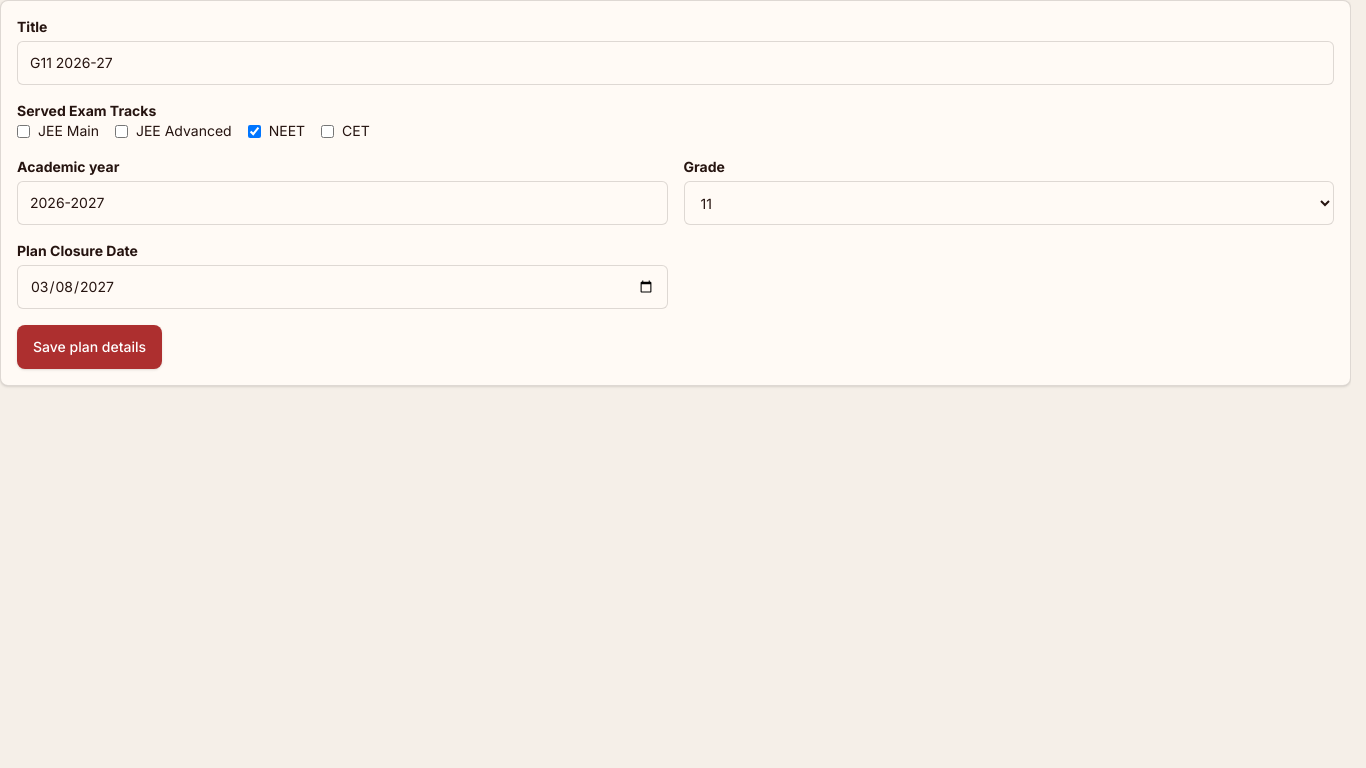
it: CurriculumPlanMetadataForm › offers to clear the clashing Chapters' dates, then resubmits what the Admin saw with that consent
In the date field labelled "Plan Closure Date": (342,287) [17,265,668,309], type "2027-02-28"
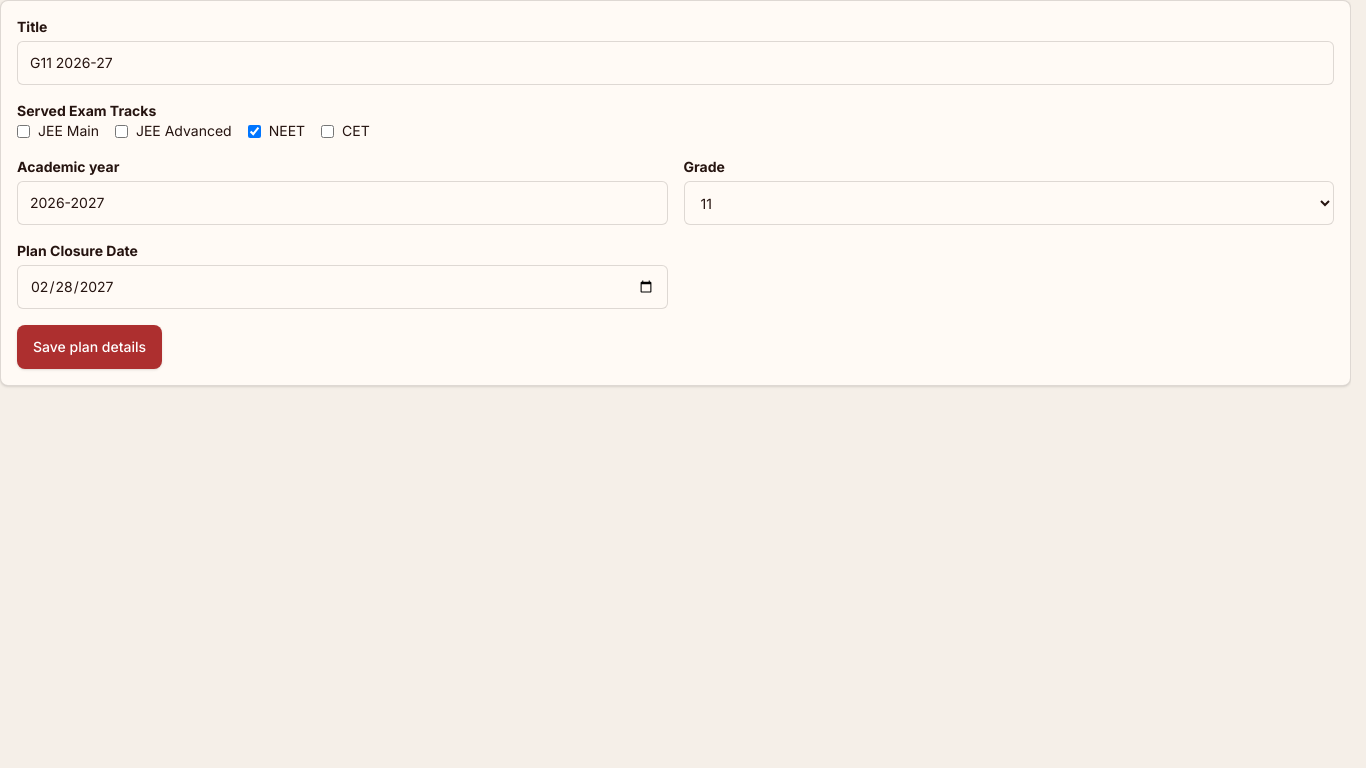
Click the button "Save plan details": (90,347) [17,325,162,369]
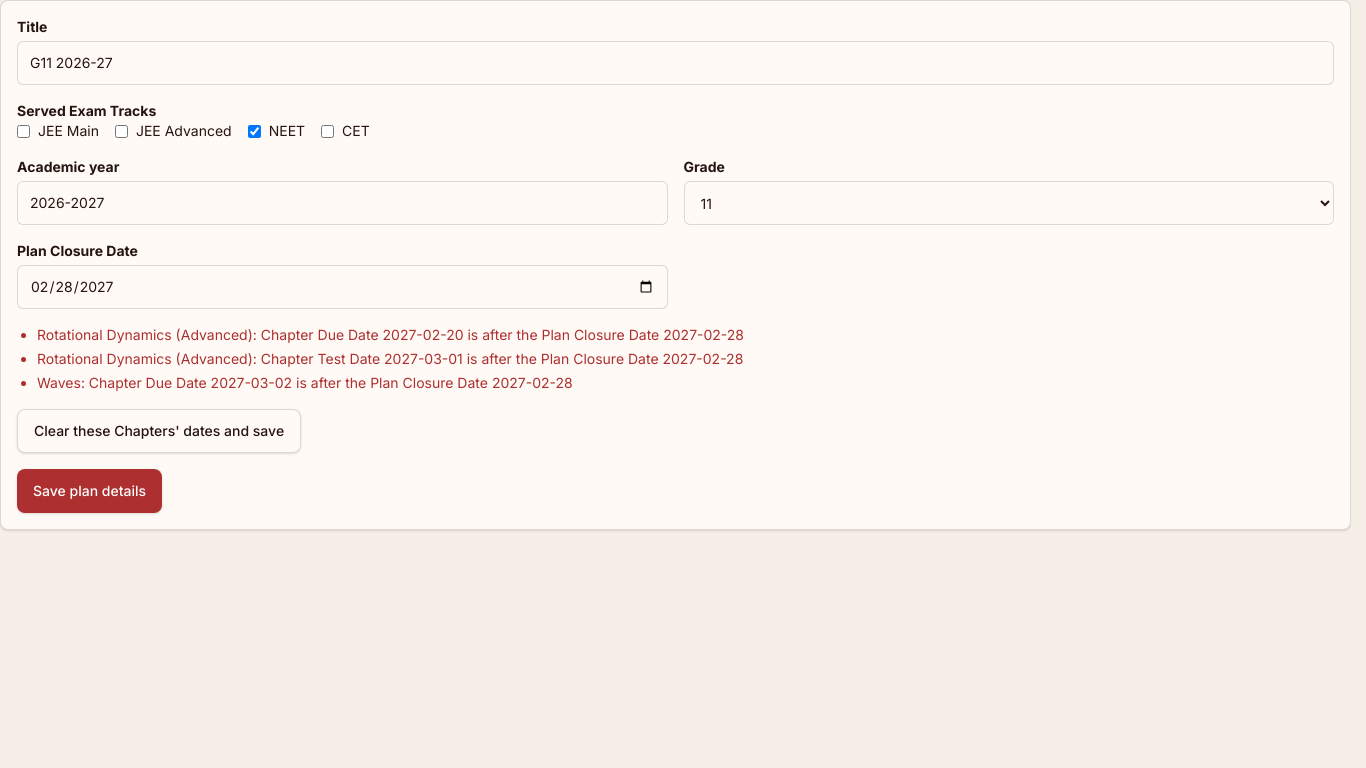
Click the button "Clear these Chapters' dates and save": (159,431) [17,409,301,453]
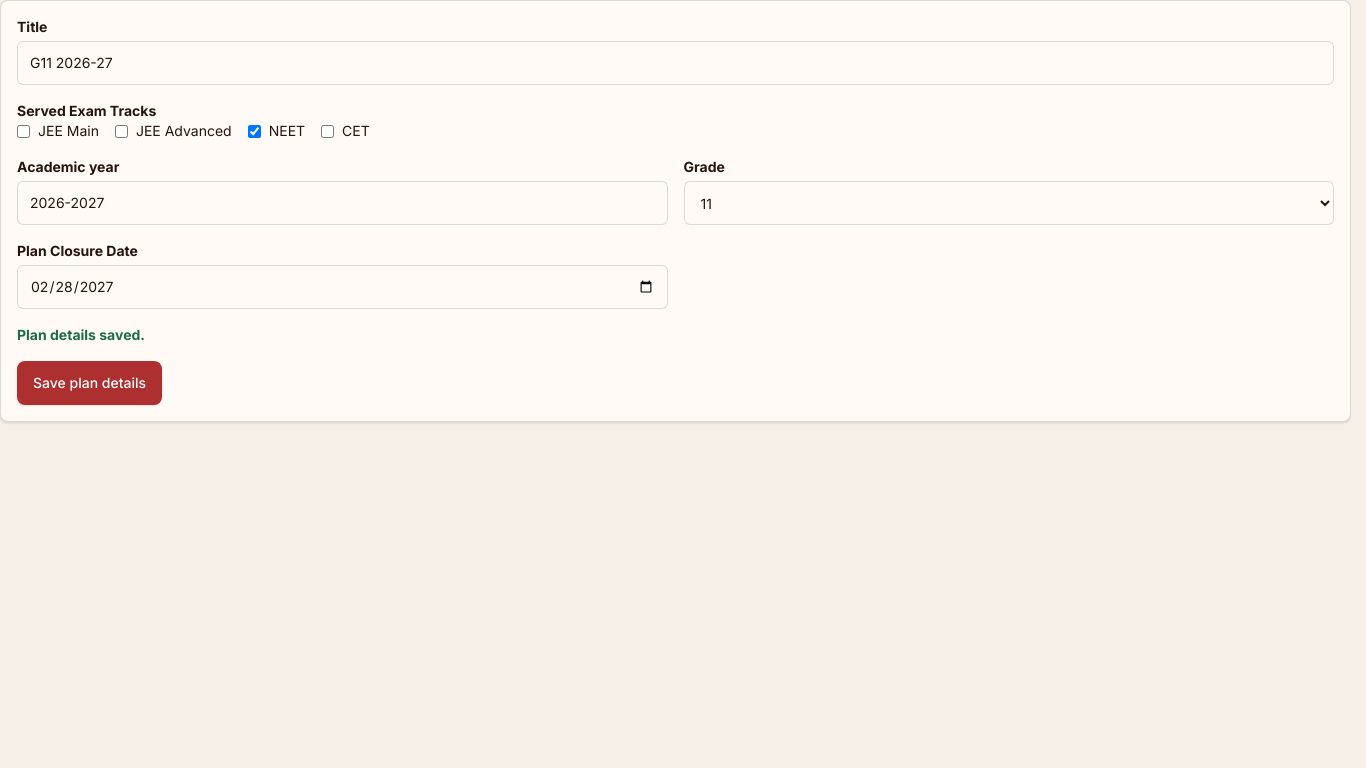
Result: the message reads "Plan details saved." at [17,326,145,343]
